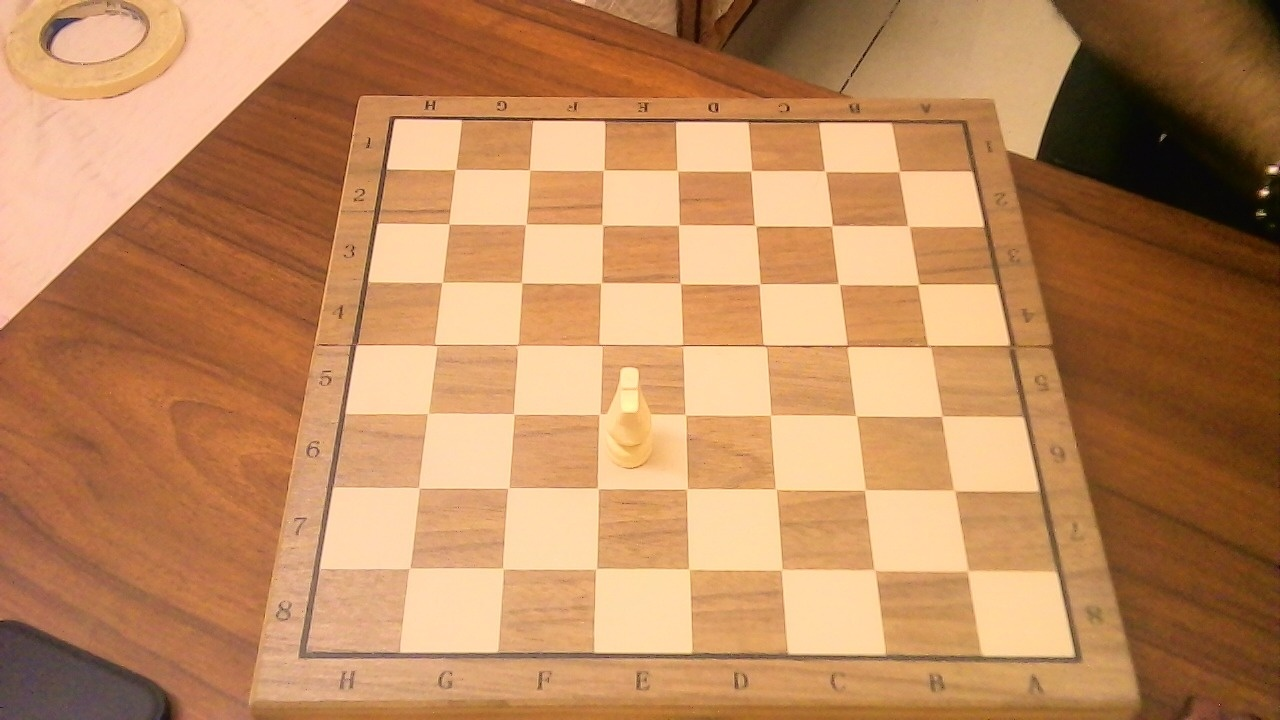N: (600, 355, 660, 474)
